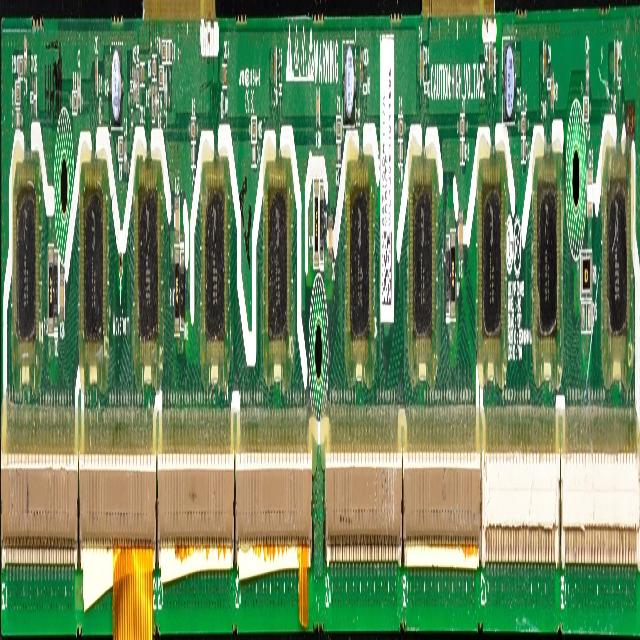Capacitor Jumper: (342, 28, 355, 122), (109, 32, 123, 117), (503, 44, 515, 129), (457, 209, 465, 282), (327, 200, 334, 279), (173, 185, 181, 248), (59, 262, 66, 334), (314, 80, 322, 140), (587, 162, 594, 224), (272, 42, 278, 102), (93, 44, 99, 104), (122, 126, 128, 181), (359, 30, 364, 94), (249, 141, 260, 170), (419, 38, 425, 91), (76, 59, 82, 110), (13, 105, 22, 139), (221, 50, 229, 88), (584, 42, 590, 92), (334, 136, 342, 173), (166, 32, 174, 69), (542, 42, 548, 90), (488, 35, 493, 91), (132, 54, 137, 106), (190, 141, 198, 173), (163, 64, 167, 125), (614, 37, 618, 95), (460, 137, 467, 169), (520, 140, 527, 172), (140, 55, 146, 90), (397, 141, 403, 172), (551, 68, 555, 114), (154, 78, 158, 122), (24, 36, 27, 73)
IC: (260, 158, 304, 404), (602, 153, 638, 402), (342, 151, 377, 369), (476, 142, 508, 376), (407, 163, 439, 394), (198, 160, 232, 377), (131, 163, 161, 378), (80, 174, 108, 367), (534, 173, 562, 347), (16, 188, 36, 342)
Resistor Jumper: (173, 244, 180, 345), (581, 247, 594, 301), (47, 246, 54, 346), (520, 101, 529, 145), (189, 109, 198, 147), (117, 128, 124, 170), (250, 110, 258, 146), (150, 81, 156, 124), (71, 84, 78, 120), (151, 46, 157, 85), (335, 113, 342, 145), (15, 78, 22, 109), (135, 58, 139, 112), (161, 36, 167, 68), (158, 63, 164, 94), (583, 99, 589, 124), (18, 56, 23, 80)
